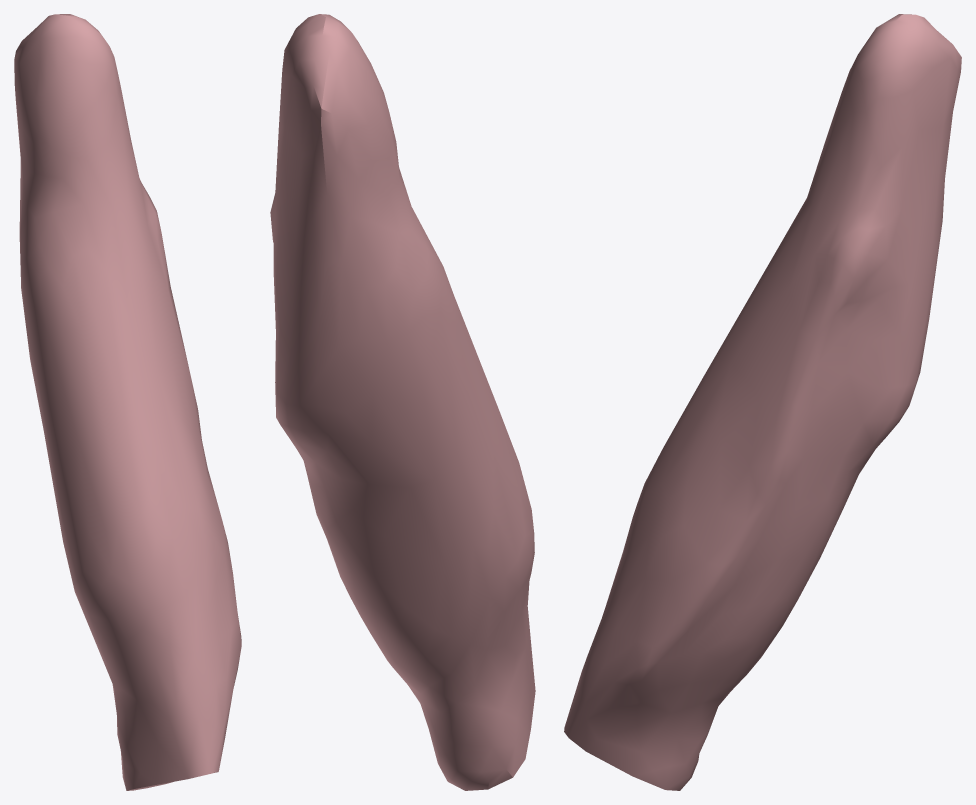
Rendered from fma46195_mm1944.glb.
The picture shows the model from 3 angles, left to right: view 1: azimuth 30°, elevation 25°; view 2: azimuth 150°, elevation 25°; view 3: azimuth 270°, elevation 25°; orthographic projection. The views are drawn at different scales.
Visible parts, largest first — view 1: FMA46195_MM1944; view 2: FMA46195_MM1944; view 3: FMA46195_MM1944.
Part boxes in pixels (x1,y1,x2,y2): FMA46195_MM1944: (14, 14, 241, 790); FMA46195_MM1944: (270, 14, 535, 790); FMA46195_MM1944: (564, 14, 961, 790).
Bounding box in the file's own units: 0.00893 × 0.0407 × 0.0188.
